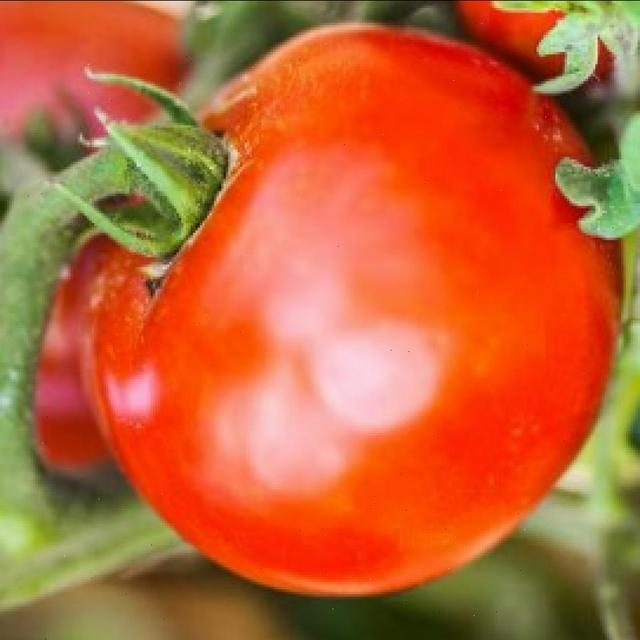Healthy Fruit: (63, 12, 383, 395)
